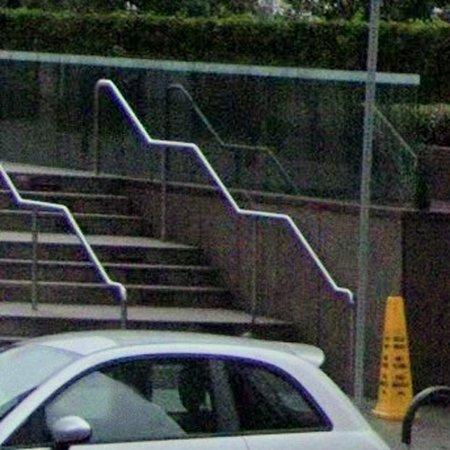stairs: (7, 169, 303, 342), (0, 187, 120, 338)
